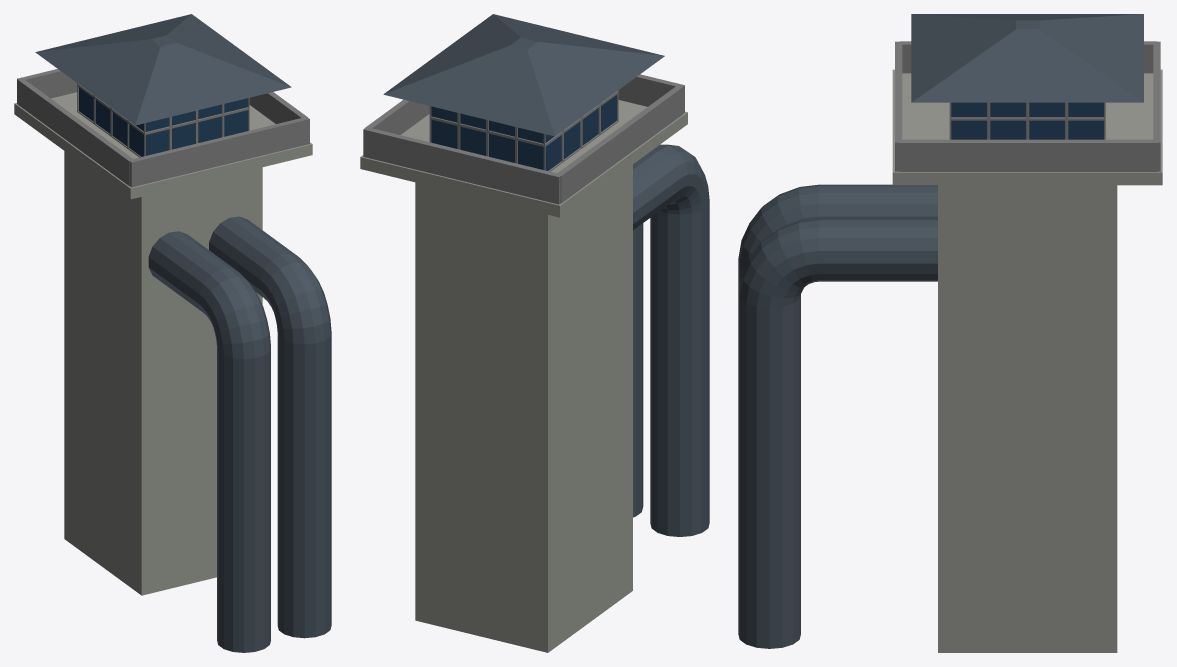
Rendered from top-prebuilt_close.fbx.
3 views of the same model, side by side, from view 1: azimuth 30°, elevation 25°; view 2: azimuth 150°, elevation 25°; view 3: azimuth 270°, elevation 25° (orthographic). The views are drawn at different scales.
Visible parts, largest first — view 1: a1048_Prebuilt.001; view 2: a1048_Prebuilt.001; view 3: a1048_Prebuilt.001.
Part boxes in pixels (x1,y1,x2,y2): a1048_Prebuilt.001: (14, 14, 331, 652); a1048_Prebuilt.001: (360, 14, 709, 652); a1048_Prebuilt.001: (738, 14, 1162, 652).
Bounding box in the file's own units: 7.73 × 20.77 × 13.46.
